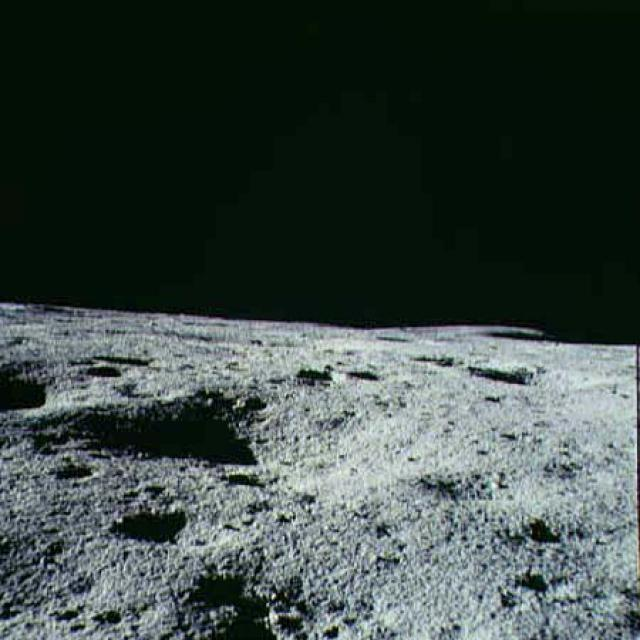crater: (32, 387, 420, 508), (172, 539, 501, 639), (95, 497, 262, 563), (409, 455, 612, 509), (0, 336, 97, 438), (438, 351, 618, 405), (333, 355, 408, 393), (36, 456, 118, 489), (275, 358, 338, 396), (63, 353, 148, 380)
